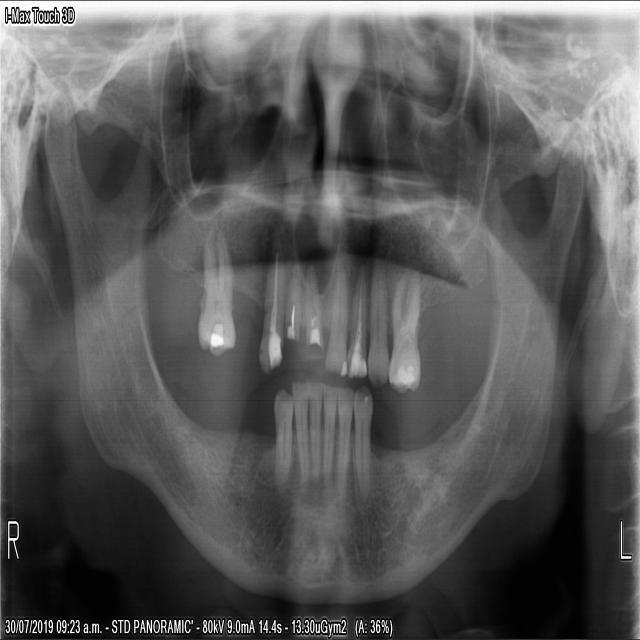LCU: (365, 257, 388, 392)
LID: (334, 381, 353, 477), (322, 379, 336, 481)
LIU: (321, 244, 347, 378), (345, 253, 367, 379)
LMU: (385, 257, 423, 392)
LPMD: (352, 381, 372, 504)
RCU: (254, 223, 286, 376)
RID: (291, 372, 309, 486), (310, 375, 324, 479)
RMU: (194, 206, 238, 356)
RPMD: (271, 384, 291, 499)
